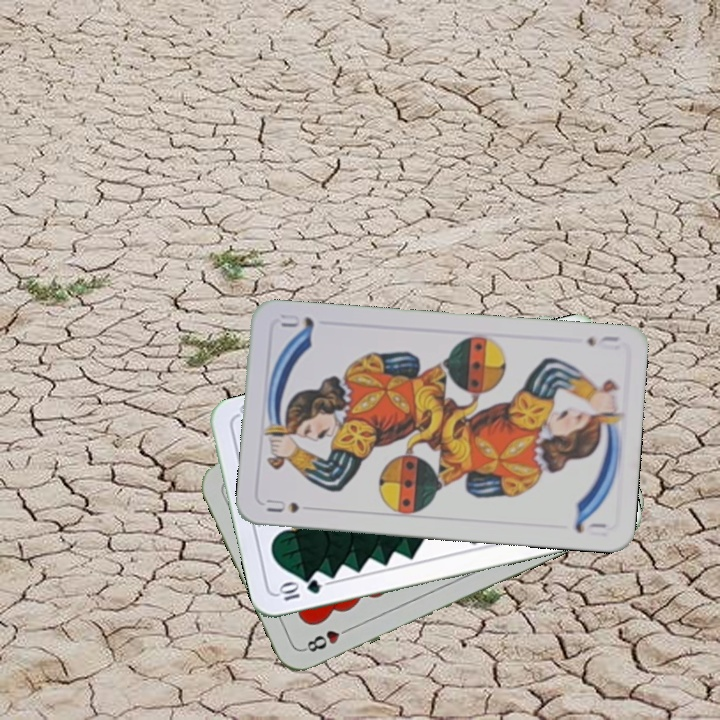G10: (275, 575, 324, 604)
H8: (300, 622, 356, 655)
SU: (582, 332, 622, 353), (262, 495, 301, 516)
